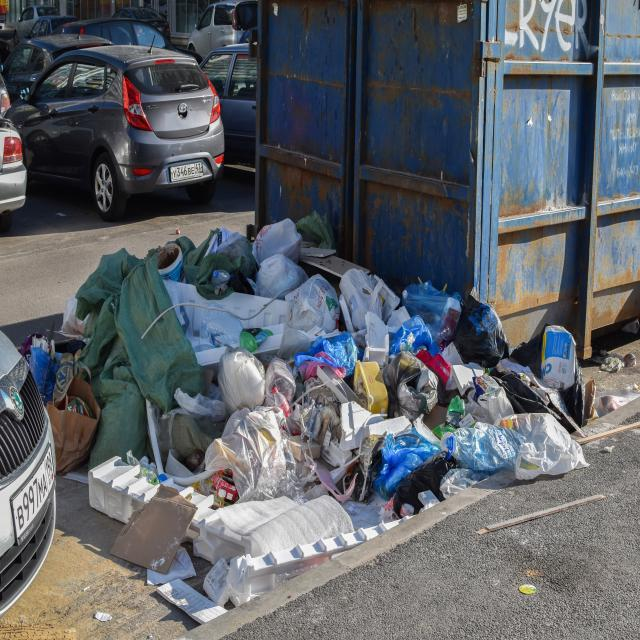lixo domiciliar: (87, 454, 240, 626), (220, 473, 410, 607), (114, 273, 203, 406), (505, 314, 589, 425), (218, 406, 294, 504), (488, 412, 594, 482), (309, 365, 378, 462), (88, 365, 148, 475), (46, 366, 100, 474), (19, 336, 92, 410), (368, 426, 436, 504), (158, 382, 224, 461), (336, 265, 399, 332), (191, 313, 276, 360), (383, 350, 431, 423), (454, 422, 516, 478), (165, 280, 227, 335), (450, 294, 496, 366), (341, 404, 402, 456), (282, 276, 338, 332), (295, 331, 356, 378), (251, 219, 302, 268), (256, 255, 308, 302), (404, 281, 448, 336), (306, 255, 374, 290), (471, 380, 518, 428), (208, 289, 268, 324), (355, 360, 389, 416), (213, 229, 254, 273), (497, 359, 547, 395), (390, 316, 433, 356), (296, 210, 336, 251), (444, 358, 479, 399), (164, 452, 206, 486), (591, 391, 639, 420), (277, 325, 315, 360), (591, 344, 639, 371), (439, 468, 478, 499), (364, 310, 389, 358), (156, 239, 183, 281), (61, 298, 90, 335), (211, 468, 237, 507), (260, 299, 291, 328), (18, 332, 47, 360), (444, 395, 466, 431), (519, 584, 536, 594)
